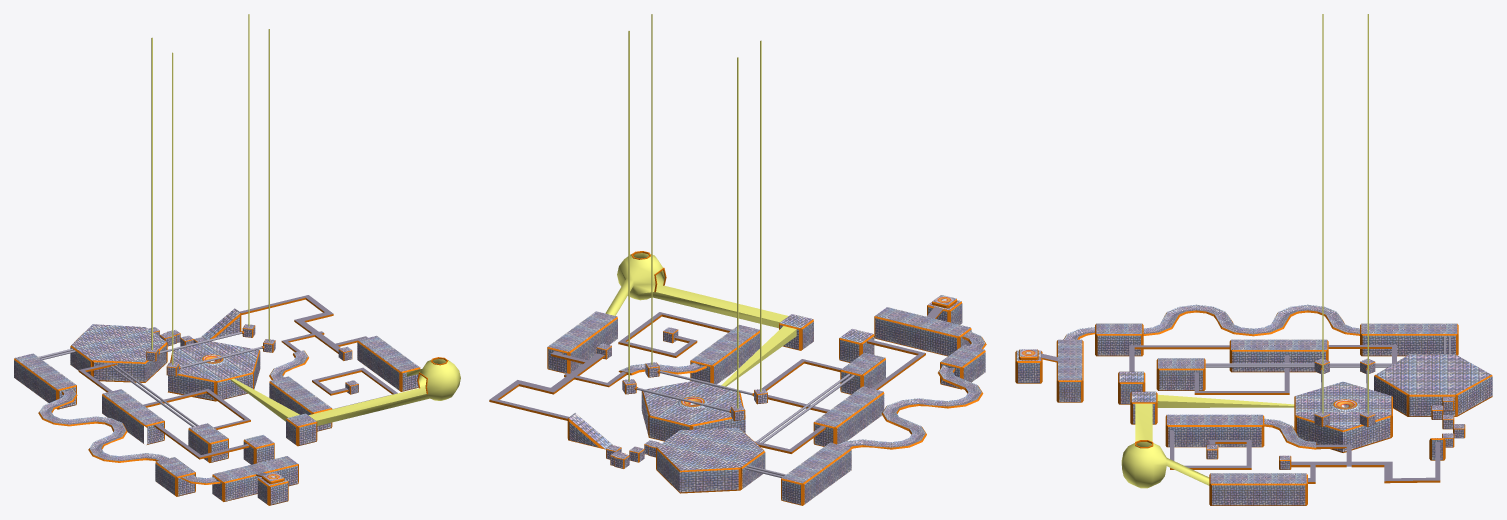
File: Level46.fbx
3 views of the same model, side by side, from view 1: azimuth 30°, elevation 25°; view 2: azimuth 150°, elevation 25°; view 3: azimuth 270°, elevation 25° (orthographic). The views are drawn at different scales.
Visible parts, largest first — view 1: Level46; view 2: Level46; view 3: Level46.
Part boxes in pixels (x1,y1,x2,y2): Level46: (14,14,460,505); Level46: (489,14,986,505); Level46: (1015,14,1492,505).
Bounding box in the file's own units: 5318 × 5258 × 5793.
Materials: 13 (7 with a texture image).
